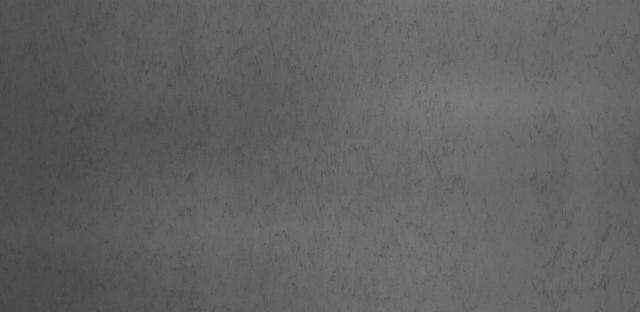silk_spot: (131, 74, 462, 289)
